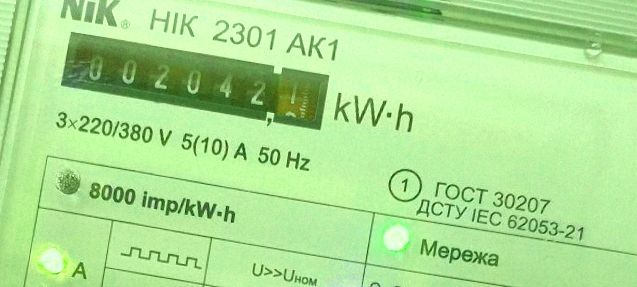0: (182, 64, 205, 97), (84, 50, 107, 82), (118, 54, 139, 88)
1: (284, 75, 302, 108)
2: (150, 60, 173, 92), (247, 75, 269, 107)
4: (215, 67, 237, 102)
screen: (54, 26, 336, 139)
